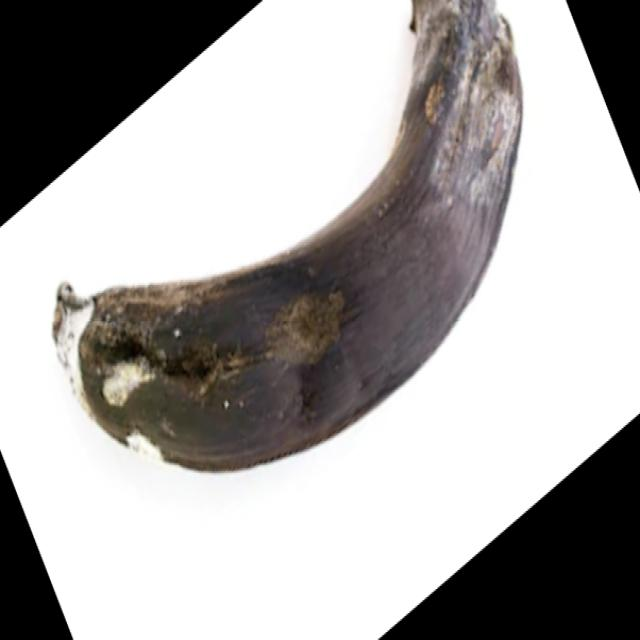Rotten: (43, 0, 554, 500)
